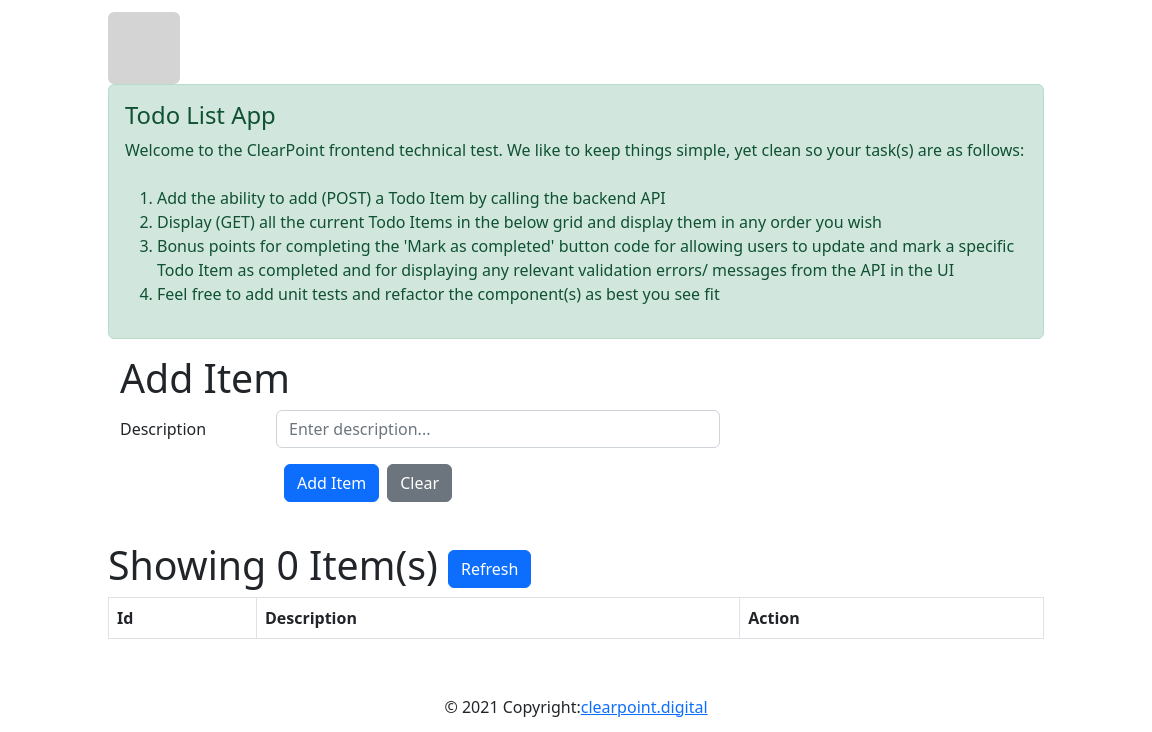
Scenario: succesfull add should clear exceptions
Click the button "Add Item" at (332, 483), box [284, 464, 379, 502]
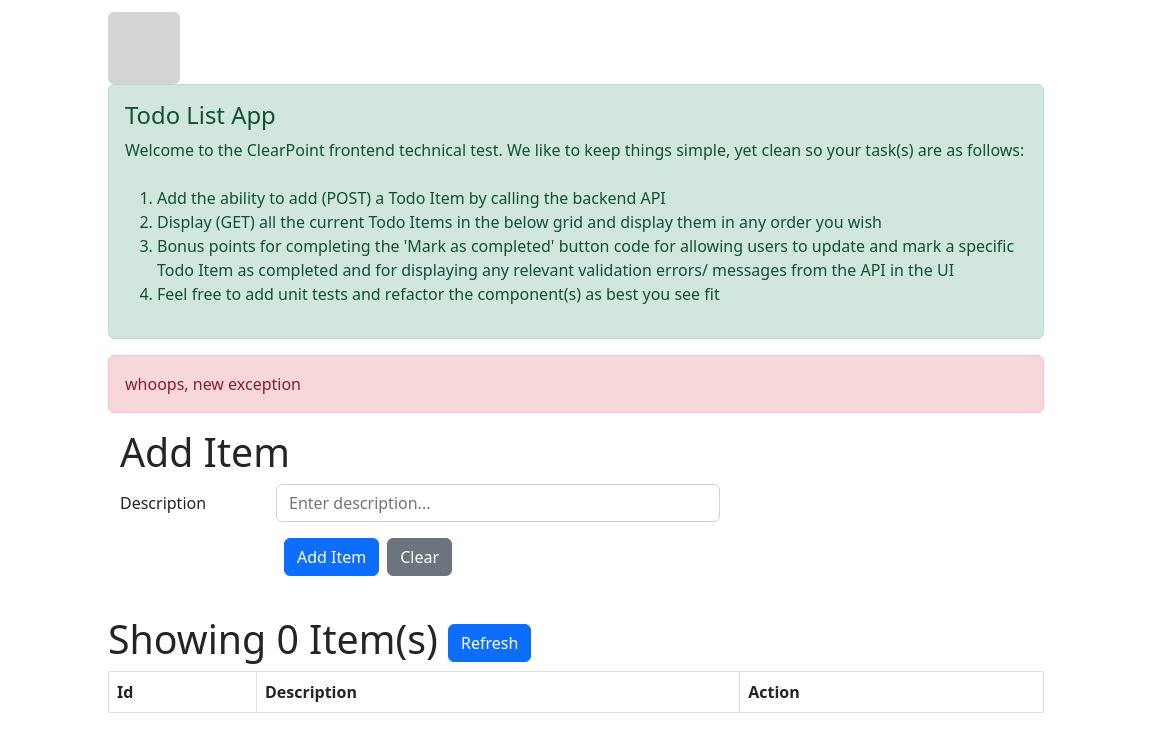
Result: the text "whoops, new exception" is shown at [108, 355, 1044, 413]
Click the button "Add Item" at (332, 557), box [284, 538, 379, 576]
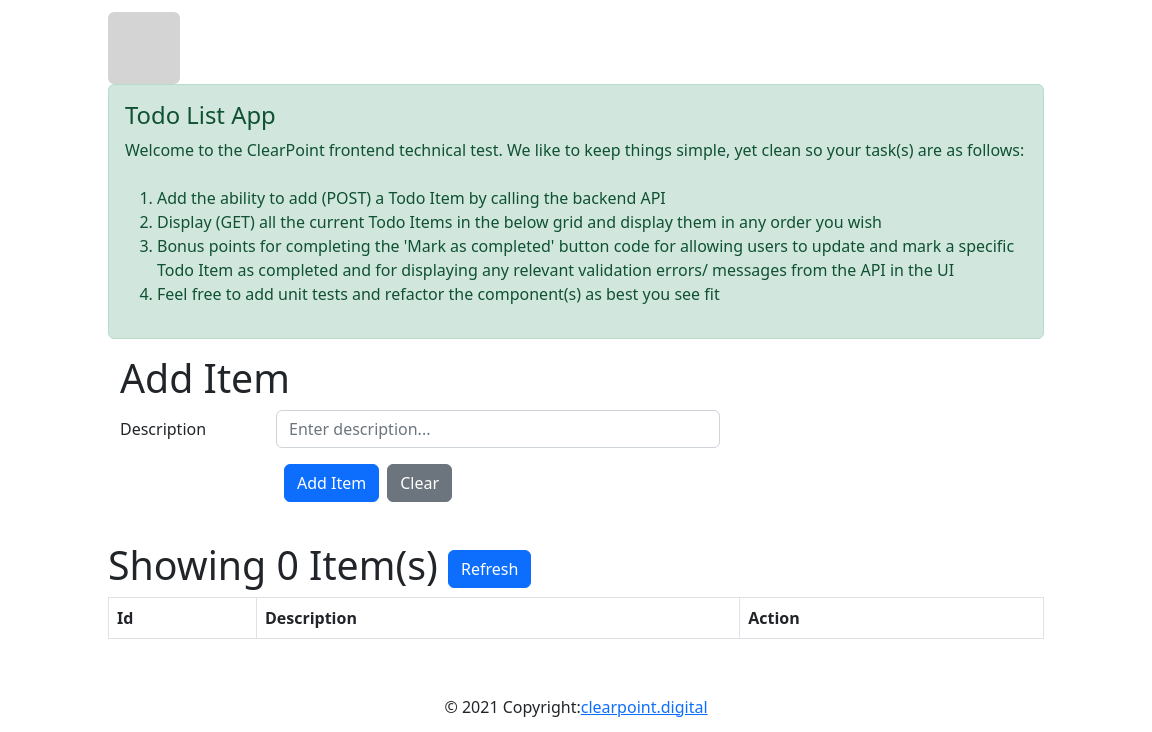
Result: the text "whoops, new exception" is gone
